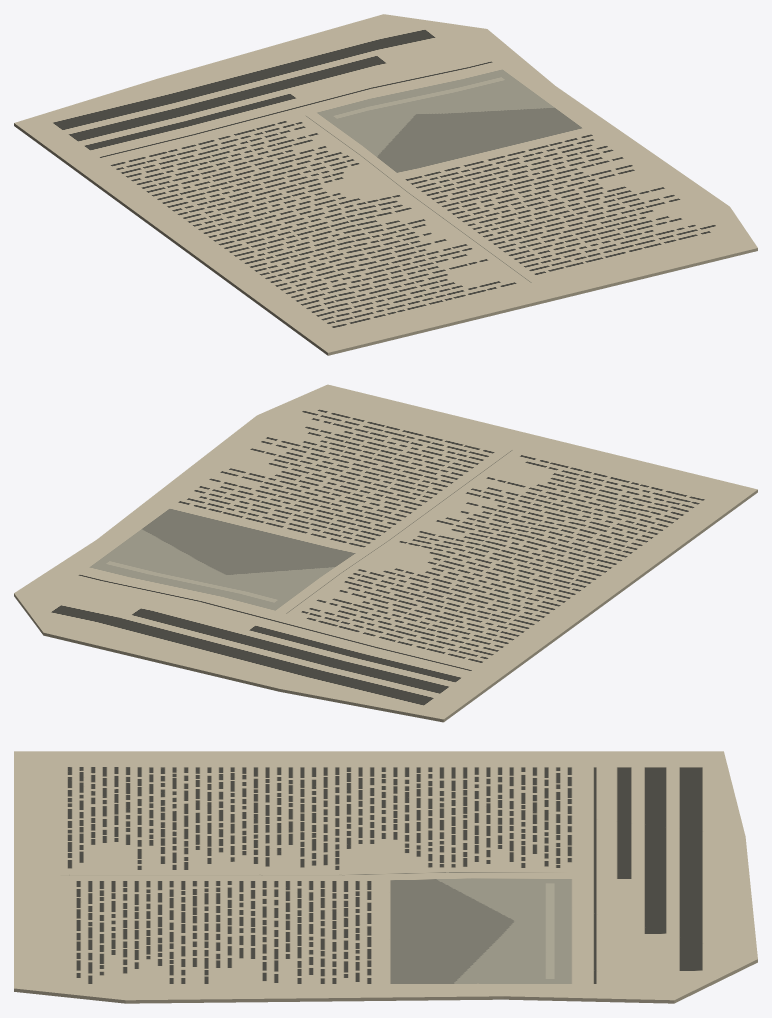
Rendered from Gazette_Newspaper_Clipping.fbx.
3 views of the same model, one above another, from view 1: azimuth 30°, elevation 25°; view 2: azimuth 150°, elevation 25°; view 3: azimuth 270°, elevation 25° (orthographic). The views are drawn at different scales.
Parts seen in each view (by area): view 1: Gazette_Newspaper_Clipping; view 2: Gazette_Newspaper_Clipping; view 3: Gazette_Newspaper_Clipping.
Boxes of the visible parts, <box> form: Gazette_Newspaper_Clipping: <box>14,14,757,355</box>; Gazette_Newspaper_Clipping: <box>14,384,757,722</box>; Gazette_Newspaper_Clipping: <box>14,751,757,1003</box>.
Size of the model in its own units: 0.19 by 0.0028 by 0.24.
